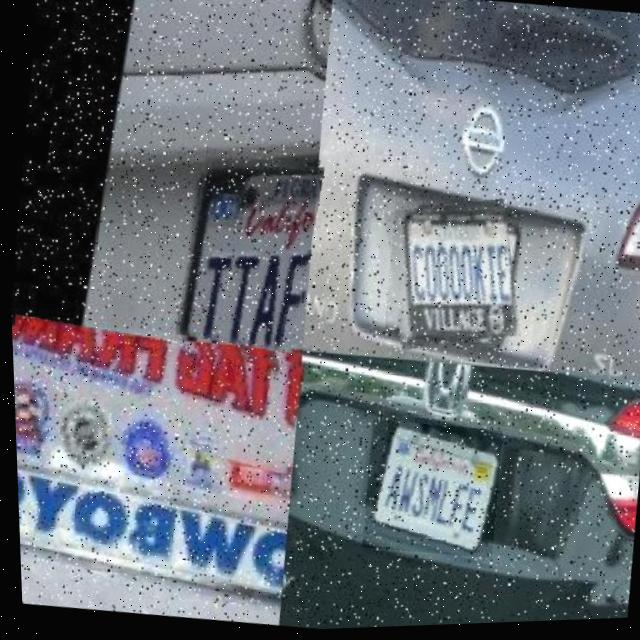LicensePlate: (9, 311, 305, 478), (172, 167, 322, 355), (354, 418, 502, 566), (393, 214, 507, 340)
